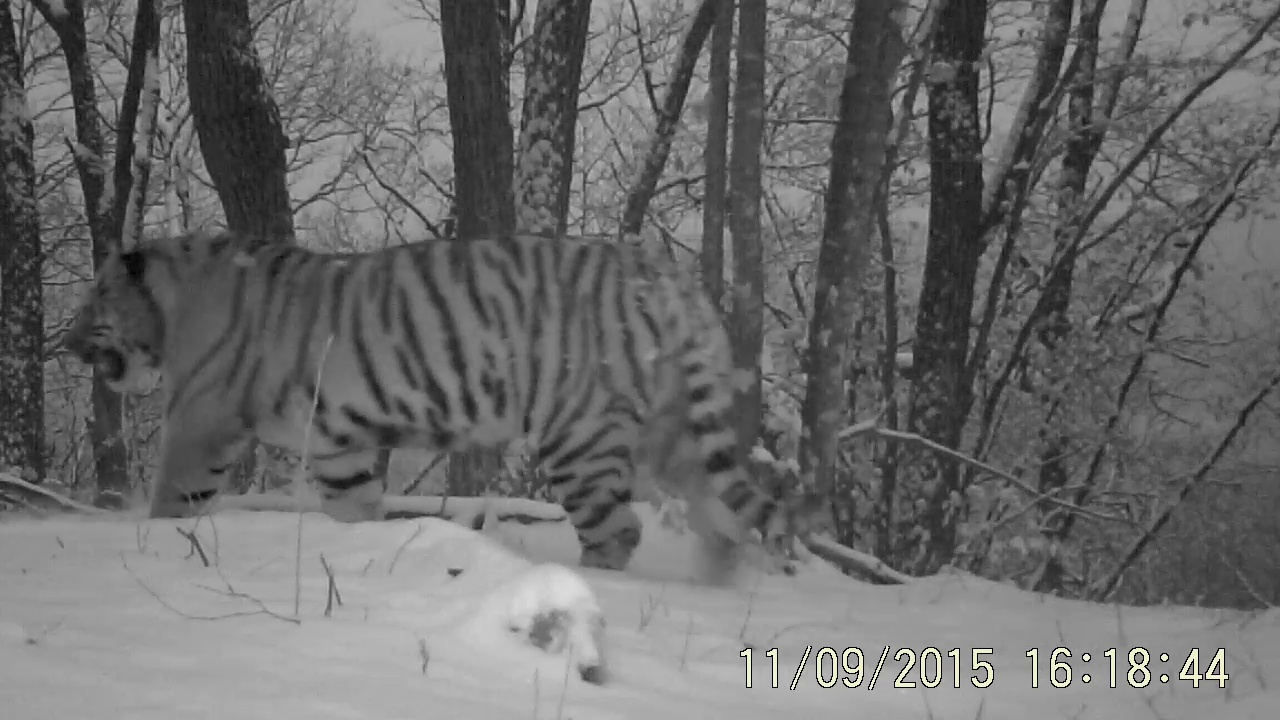Tiger: (56, 131, 912, 598)
